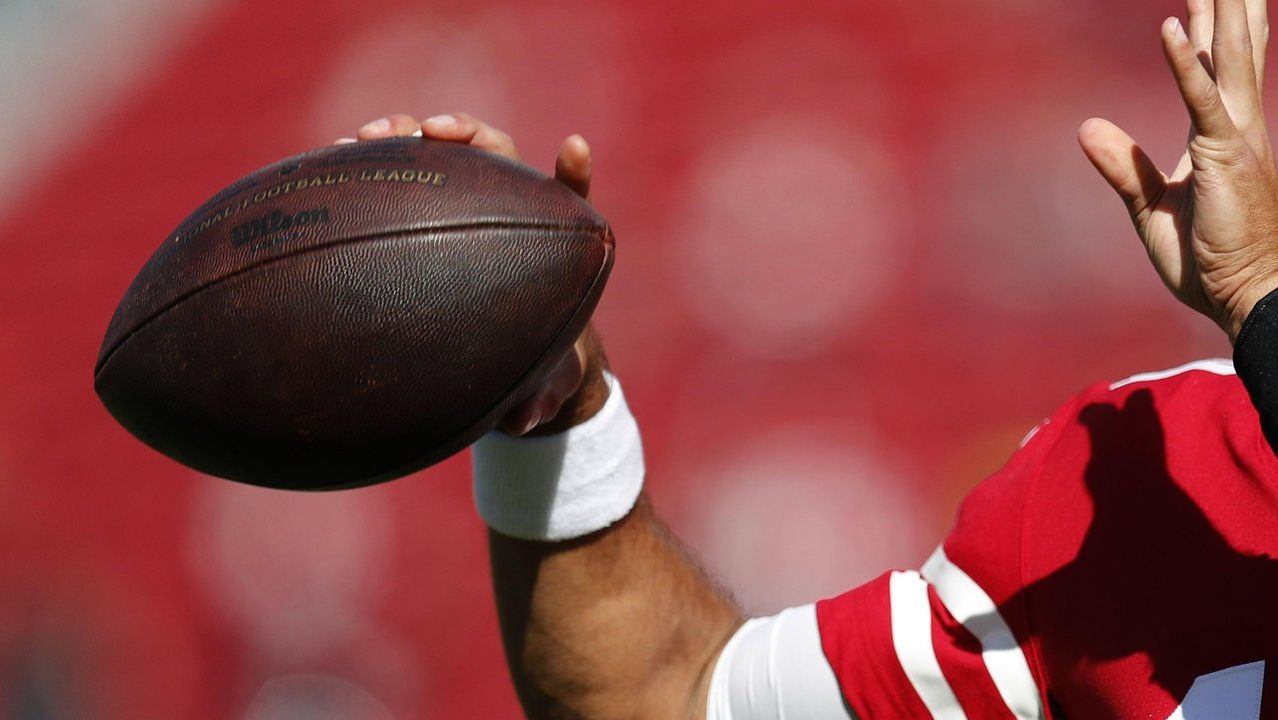futbol americano: (93, 137, 616, 492)
